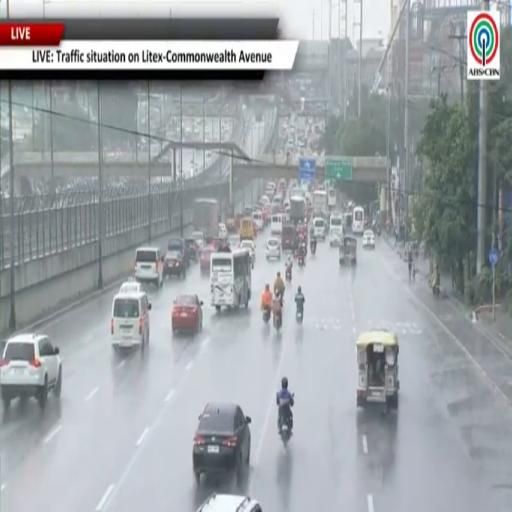bus: (210, 247, 251, 311), (313, 190, 327, 216), (352, 206, 364, 234), (328, 187, 337, 212)
car: (0, 333, 62, 410), (193, 403, 251, 484), (111, 292, 151, 350), (197, 493, 261, 511), (172, 295, 203, 332), (135, 247, 163, 286), (167, 237, 189, 267), (164, 250, 187, 278), (200, 246, 215, 275), (119, 280, 146, 293), (240, 240, 255, 263), (266, 237, 281, 260), (185, 238, 199, 261), (363, 230, 375, 248), (191, 232, 204, 248), (228, 235, 240, 248), (218, 223, 227, 238)
jeepney: (357, 329, 399, 409), (339, 235, 357, 265), (240, 217, 254, 240)
motorcycle: (279, 414, 292, 447), (431, 277, 440, 297), (273, 312, 282, 331), (262, 308, 271, 324), (296, 309, 303, 324), (432, 284, 440, 297), (298, 254, 304, 268), (286, 267, 291, 282), (310, 244, 316, 255)
truck: (193, 199, 219, 241), (289, 196, 306, 225), (312, 190, 327, 218)
